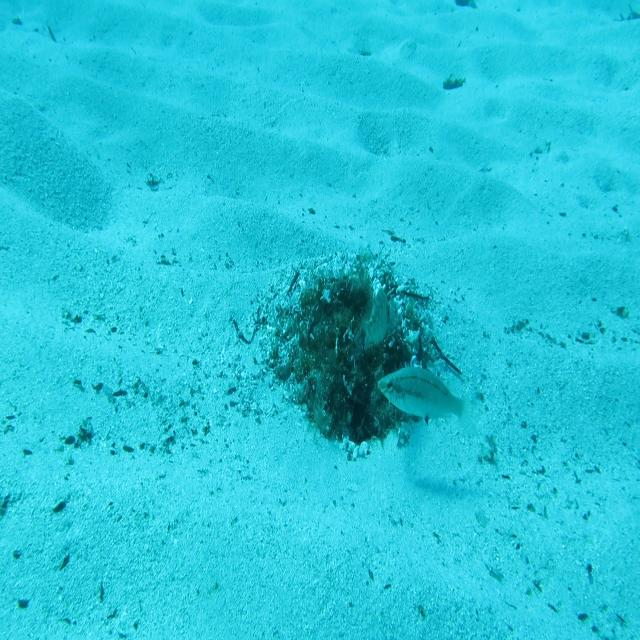MAN: (353, 285, 393, 357)
core_nest: (327, 287, 372, 338)
female: (377, 362, 482, 444)
nest: (246, 242, 452, 476)
vegetation: (440, 77, 466, 91), (452, 0, 478, 12)
